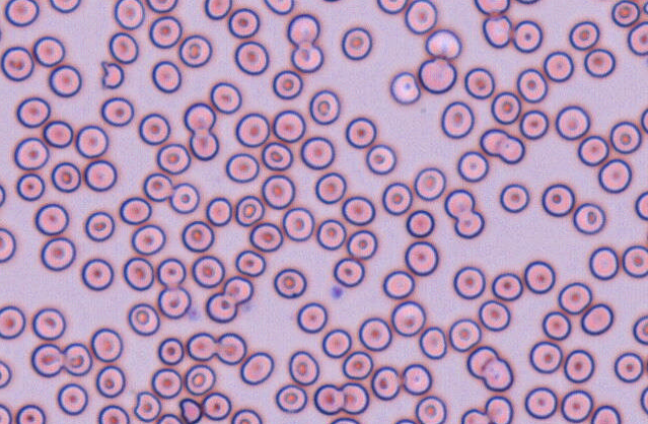PLT: (331, 285, 346, 300)
RBC: (418, 57, 457, 94), (440, 100, 474, 138), (40, 236, 76, 271), (390, 300, 425, 336), (555, 104, 590, 140), (234, 40, 269, 75), (235, 112, 270, 147), (13, 136, 49, 170), (404, 240, 438, 276), (0, 45, 34, 81), (239, 351, 274, 385), (598, 158, 632, 193), (261, 174, 295, 209), (541, 183, 575, 217), (34, 202, 69, 235), (557, 281, 592, 314), (90, 327, 123, 362), (31, 307, 66, 340), (358, 316, 391, 351), (300, 136, 335, 169), (130, 223, 166, 255), (308, 89, 340, 125), (272, 109, 306, 142), (466, 345, 499, 379), (157, 286, 191, 319), (452, 265, 485, 299), (30, 343, 63, 377), (286, 13, 320, 46), (127, 302, 160, 336), (529, 340, 562, 374), (191, 255, 225, 288), (148, 15, 182, 48), (413, 166, 446, 200), (178, 34, 212, 67), (404, 0, 437, 34), (448, 318, 481, 352), (75, 124, 108, 158), (48, 64, 82, 97), (122, 256, 154, 291), (156, 142, 191, 174), (516, 68, 548, 103), (282, 206, 314, 241), (560, 389, 593, 422), (580, 302, 613, 335), (524, 386, 557, 419), (481, 357, 513, 391), (16, 96, 50, 128), (81, 257, 113, 291), (340, 26, 372, 60), (523, 260, 555, 294), (609, 120, 641, 154), (370, 365, 401, 400), (563, 348, 594, 383), (288, 350, 319, 385), (588, 245, 619, 280), (215, 332, 247, 365), (290, 41, 323, 73), (56, 382, 88, 415), (84, 159, 117, 191), (32, 35, 65, 67), (181, 220, 214, 252), (314, 171, 346, 204), (138, 112, 170, 145), (572, 202, 605, 234), (225, 152, 259, 183), (249, 221, 283, 252), (381, 181, 412, 215), (577, 134, 609, 166), (478, 299, 510, 331), (344, 116, 376, 148), (183, 102, 216, 133), (95, 365, 126, 398), (389, 71, 420, 104), (490, 91, 521, 124), (210, 81, 241, 114), (273, 267, 306, 298), (62, 342, 92, 376), (341, 195, 375, 225), (512, 19, 542, 53), (151, 59, 181, 93), (100, 96, 134, 126), (205, 292, 237, 323), (313, 383, 344, 415), (464, 67, 495, 99), (401, 363, 432, 395), (543, 50, 574, 82), (227, 7, 259, 38), (457, 150, 488, 182), (296, 301, 327, 333), (382, 269, 415, 299), (108, 31, 138, 64), (444, 188, 475, 219), (184, 364, 215, 395), (151, 367, 182, 398), (50, 161, 81, 192), (84, 210, 115, 241), (365, 143, 396, 174), (341, 350, 373, 380), (316, 218, 346, 250), (169, 182, 199, 214), (261, 141, 293, 171), (613, 351, 643, 383), (119, 196, 152, 225), (274, 384, 307, 413), (418, 326, 447, 359), (234, 195, 264, 226), (142, 172, 173, 202), (189, 129, 219, 160), (186, 331, 217, 361), (272, 69, 303, 99), (346, 229, 377, 259), (568, 20, 599, 50), (333, 257, 364, 287), (340, 382, 369, 414), (113, 0, 145, 29), (491, 272, 523, 301), (583, 48, 615, 77), (4, 0, 39, 26), (156, 257, 186, 287), (321, 328, 351, 358), (541, 310, 571, 340), (499, 183, 529, 213), (519, 109, 549, 139), (42, 119, 73, 148), (453, 209, 484, 238), (234, 249, 266, 277), (414, 395, 446, 423), (0, 304, 25, 339), (223, 275, 253, 304), (201, 391, 231, 420), (16, 172, 45, 201), (479, 128, 509, 156), (622, 244, 647, 277), (497, 135, 525, 164), (484, 395, 513, 423), (405, 209, 434, 237), (205, 196, 232, 226), (611, 0, 640, 27), (157, 337, 184, 365), (627, 21, 647, 56), (97, 404, 130, 423), (590, 404, 621, 423), (203, 0, 232, 20), (0, 227, 16, 263), (473, 0, 509, 16), (15, 404, 45, 423), (230, 408, 262, 423), (263, 0, 294, 15), (460, 408, 490, 423), (632, 315, 647, 345), (376, 0, 407, 14), (146, 0, 178, 13), (49, 0, 81, 13), (634, 190, 647, 220), (0, 359, 12, 388), (156, 413, 182, 423), (0, 403, 12, 423), (640, 386, 648, 414), (329, 416, 360, 423), (640, 107, 647, 133), (0, 184, 6, 207), (515, 0, 539, 5), (393, 418, 416, 423), (642, 0, 648, 14), (321, 0, 342, 3)
Schistocyte: (426, 29, 464, 59), (485, 14, 513, 49), (134, 391, 162, 422), (100, 60, 124, 89), (179, 399, 203, 424)
